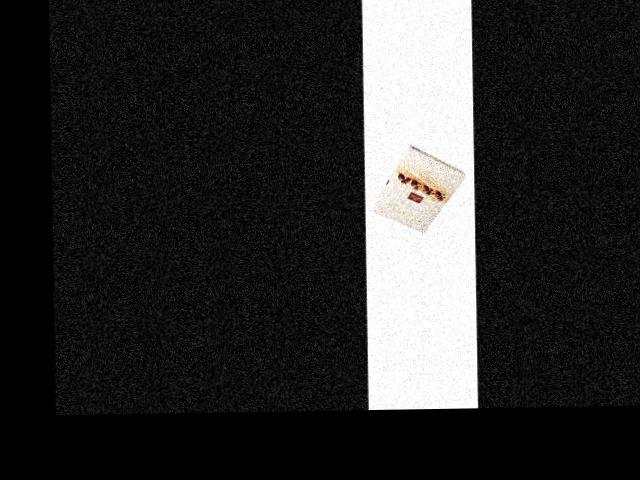chocolate: (371, 141, 473, 232)
